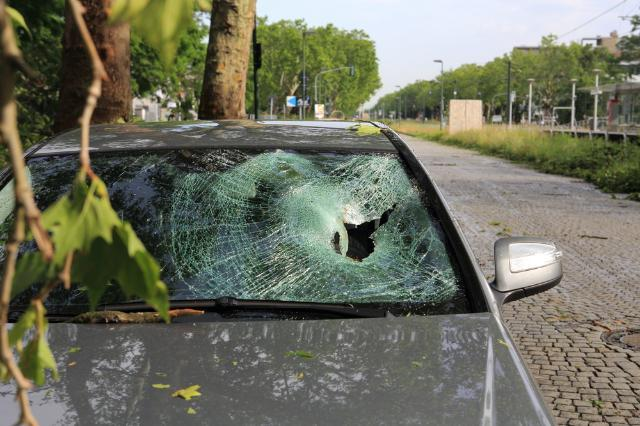glass shatter: (90, 149, 480, 317)
